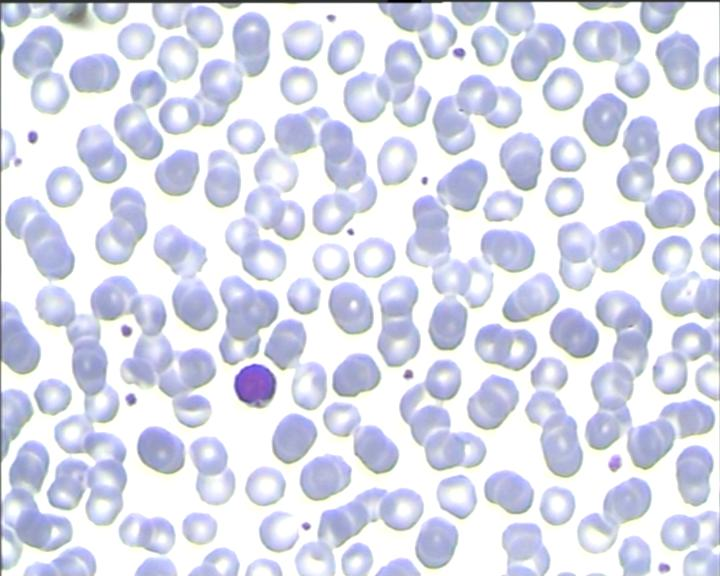lymp: (230, 363, 279, 413)
